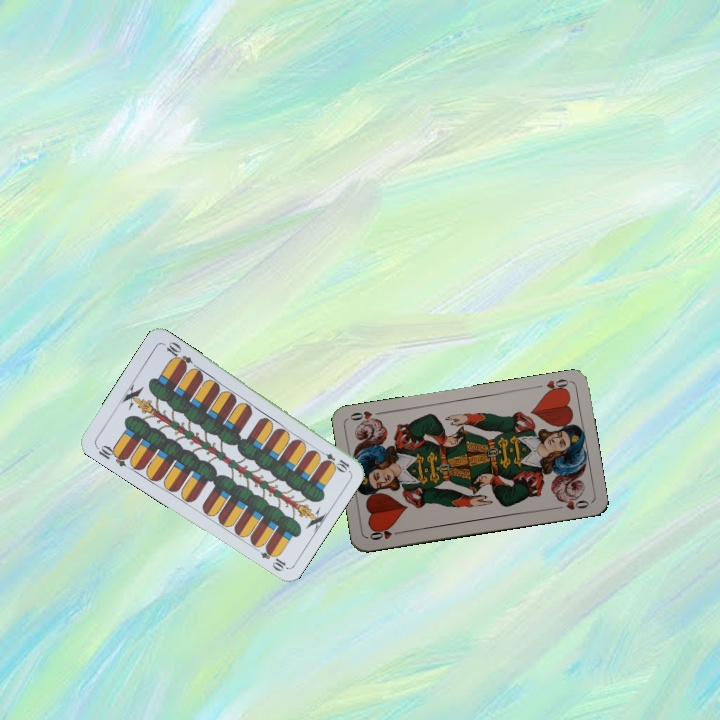E10: (92, 441, 131, 469), (314, 446, 352, 474)
HO: (366, 524, 406, 543), (541, 375, 572, 397)
